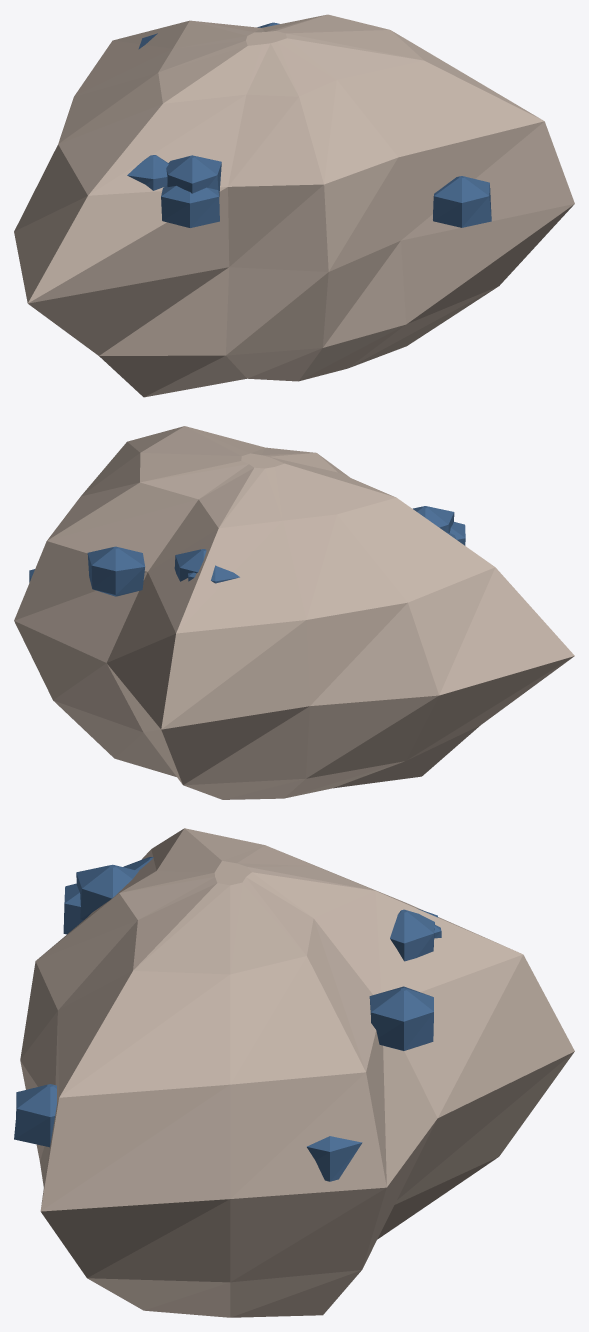
Rendered from porous_volcanic.glb.
3 views of the same model, one above another, from view 1: azimuth 30°, elevation 25°; view 2: azimuth 150°, elevation 25°; view 3: azimuth 270°, elevation 25° (orthographic). The views are drawn at different scales.
Parts seen in each view (by area): view 1: DL008_PorousVolcanicStone_stone_warm, DL008_PorousVolcanicStone_shadow_blue; view 2: DL008_PorousVolcanicStone_stone_warm, DL008_PorousVolcanicStone_shadow_blue; view 3: DL008_PorousVolcanicStone_stone_warm, DL008_PorousVolcanicStone_shadow_blue.
Boxes of the visible parts, x1,y1,x2,y2 form: DL008_PorousVolcanicStone_stone_warm: (14, 14, 574, 397); DL008_PorousVolcanicStone_shadow_blue: (127, 22, 491, 227); DL008_PorousVolcanicStone_stone_warm: (14, 426, 574, 799); DL008_PorousVolcanicStone_shadow_blue: (29, 506, 465, 596); DL008_PorousVolcanicStone_stone_warm: (20, 828, 574, 1317); DL008_PorousVolcanicStone_shadow_blue: (14, 857, 441, 1181).
Size of the model in its own units: 2.6 by 1.6 by 2.03.
